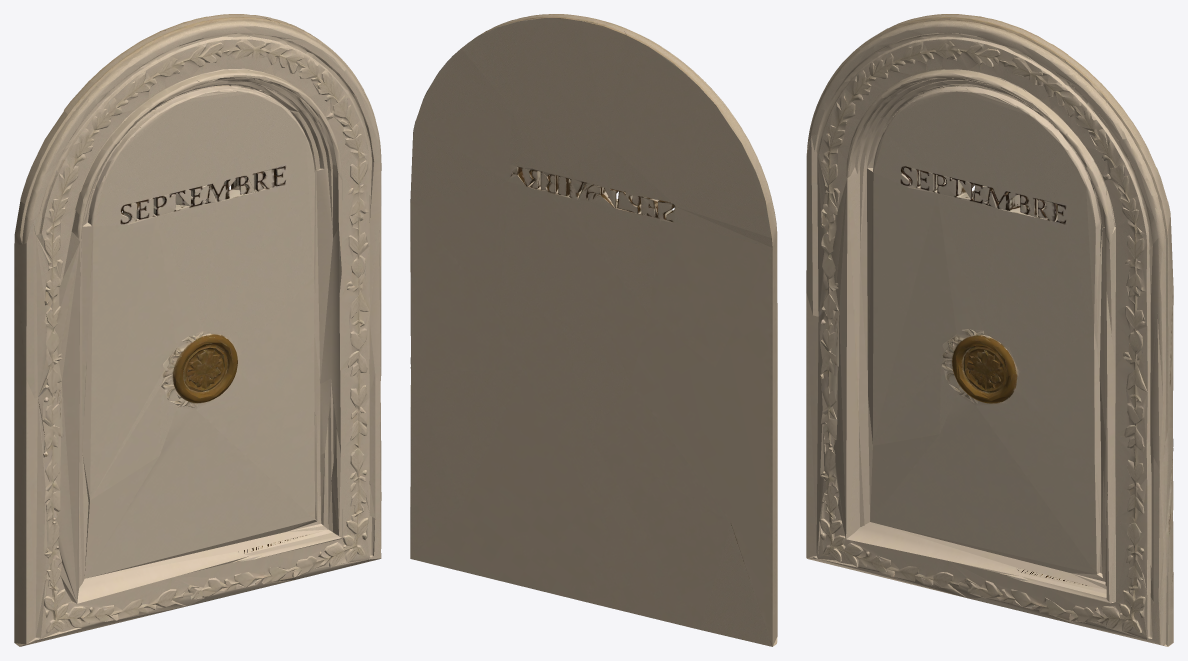
File: porte-septembre.glb
The picture shows the model from 3 angles, left to right: view 1: azimuth 30°, elevation 25°; view 2: azimuth 150°, elevation 25°; view 3: azimuth 330°, elevation 25°; orthographic projection.
Visible parts, largest first — view 1: mesh_node; view 2: mesh_node; view 3: mesh_node.
Boxes of the visible parts, box(x1,y1,x2,y2) form: mesh_node: box(14, 14, 381, 646); mesh_node: box(410, 14, 777, 646); mesh_node: box(806, 14, 1173, 646).
Size of the model in its own units: 1.24 by 1.9 by 0.0924.
Materials: 1 (1 with a texture image).
